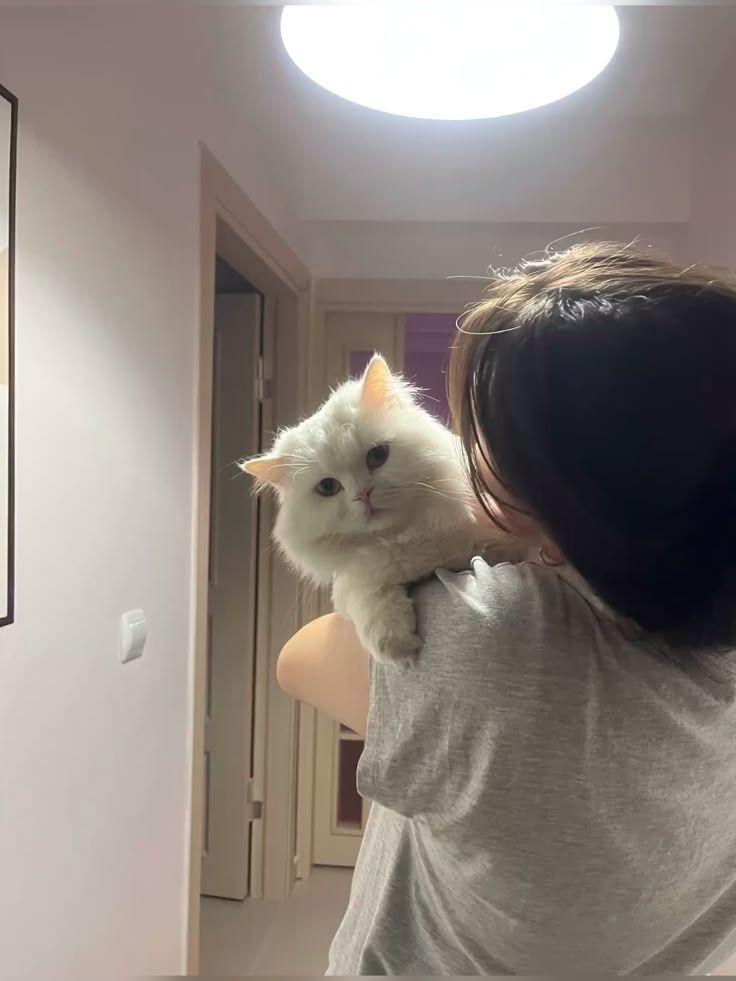kedo: (244, 352, 510, 657)
